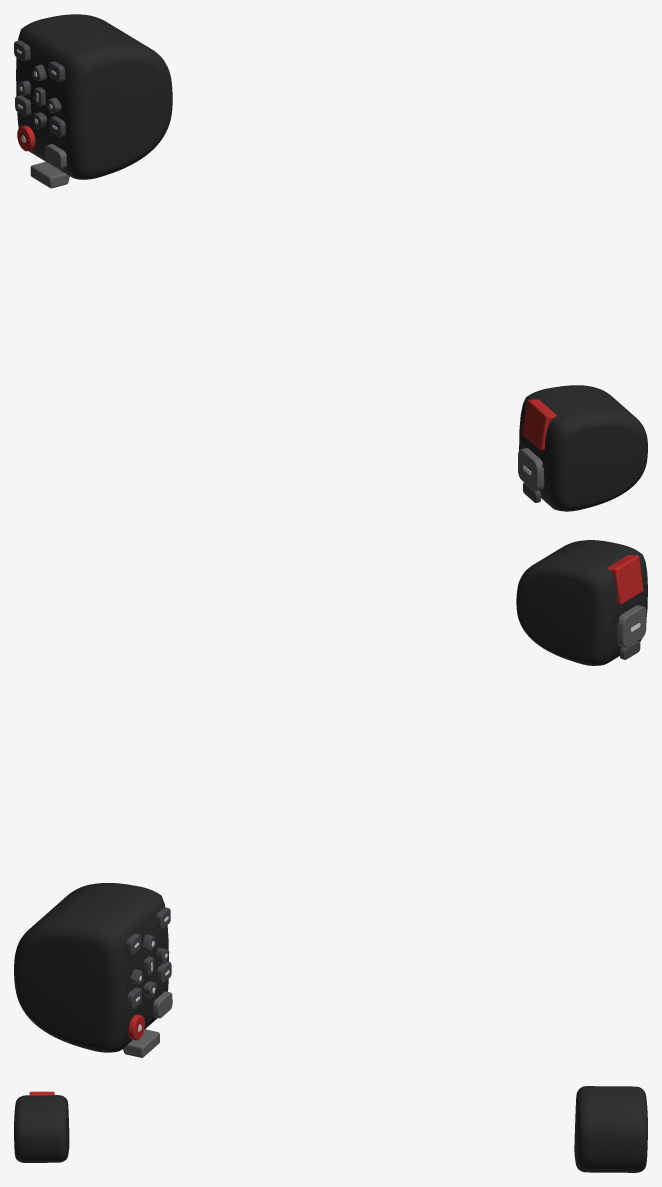
The model's file is dpad.glb.
The picture shows the model from 3 angles, top to bottom: view 1: azimuth 30°, elevation 25°; view 2: azimuth 150°, elevation 25°; view 3: azimuth 270°, elevation 25°; orthographic projection. The views are drawn at different scales.
Parts seen in each view (by area): view 1: switches_dpad; view 2: switches_dpad; view 3: switches_dpad.
Boxes of the visible parts, x1,y1,x2,y2 form: switches_dpad: (14,14,647,511); switches_dpad: (14,540,647,1057); switches_dpad: (14,1086,647,1172).
Size of the model in its own units: 0.063 by 0.0727 by 0.5083.
